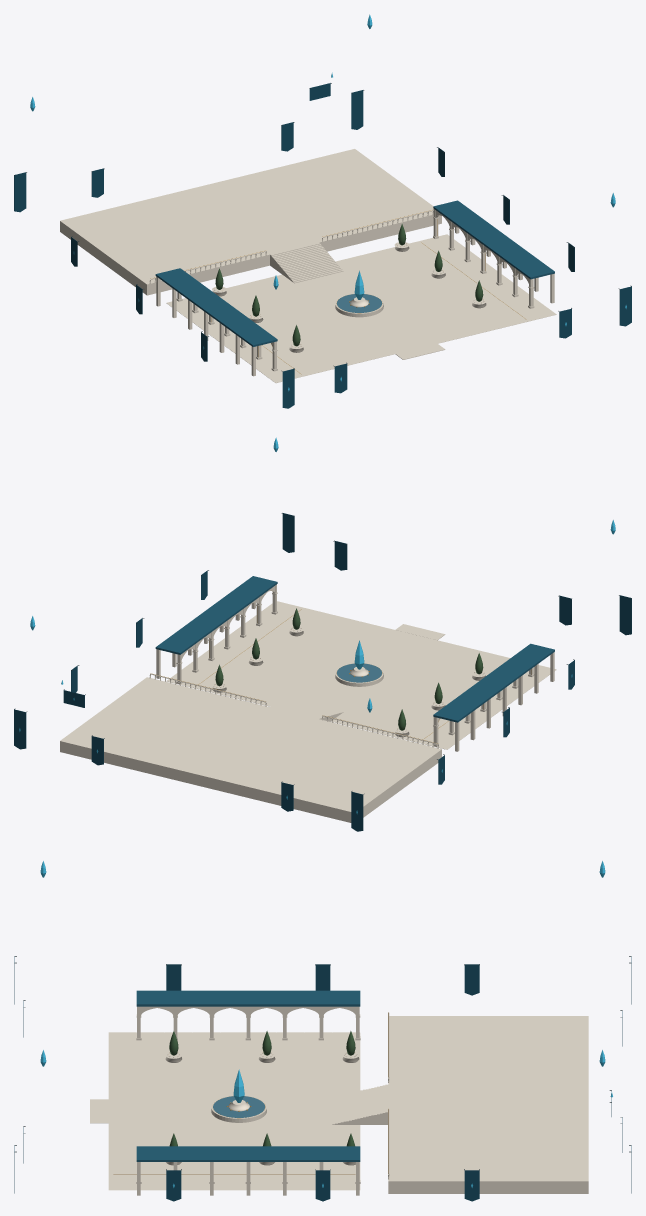
File: castle-00.glb
3 renders of one model, top to bottom at view 1: azimuth 30°, elevation 25°; view 2: azimuth 150°, elevation 25°; view 3: azimuth 270°, elevation 25°, orthographic. The views are drawn at different scales.
Parts seen in each view (by area): view 1: NC.Export.Courtyard.IvoryStone, NC.Export.Courtyard.TealRoof, NC.Export.Fortifications.BannerTeal, NC.Export.Courtyard.Foliage, NC.Export.Courtyard.Moat; view 2: NC.Export.Courtyard.IvoryStone, NC.Export.Courtyard.TealRoof, NC.Export.Fortifications.BannerTeal, NC.Export.Courtyard.Foliage, NC.Export.Courtyard.Moat; view 3: NC.Export.Courtyard.IvoryStone, NC.Export.Courtyard.TealRoof, NC.Export.Fortifications.BannerTeal, NC.Export.Courtyard.Foliage, NC.Export.Courtyard.Moat.
Boxes of the visible parts, box(x1,y1,x2,y2) form: NC.Export.Courtyard.IvoryStone: box(60, 149, 556, 383); NC.Export.Courtyard.TealRoof: box(155, 200, 554, 346); NC.Export.Fortifications.BannerTeal: box(14, 83, 631, 408); NC.Export.Courtyard.Foliage: box(215, 224, 483, 346); NC.Export.Courtyard.Moat: box(336, 294, 382, 312); NC.Export.Courtyard.IvoryStone: box(60, 584, 556, 822); NC.Export.Courtyard.TealRoof: box(155, 576, 554, 722); NC.Export.Fortifications.BannerTeal: box(14, 513, 631, 831); NC.Export.Courtyard.Foliage: box(215, 608, 483, 730); NC.Export.Courtyard.Moat: box(337, 663, 381, 682); NC.Export.Courtyard.IvoryStone: box(90, 1006, 588, 1195); NC.Export.Courtyard.TealRoof: box(136, 990, 360, 1161); NC.Export.Fortifications.BannerTeal: box(14, 956, 631, 1201); NC.Export.Courtyard.Foliage: box(169, 1031, 355, 1146); NC.Export.Courtyard.Moat: box(213, 1096, 264, 1117).
Size of the model in its own units: 105 by 37.1 by 133.
